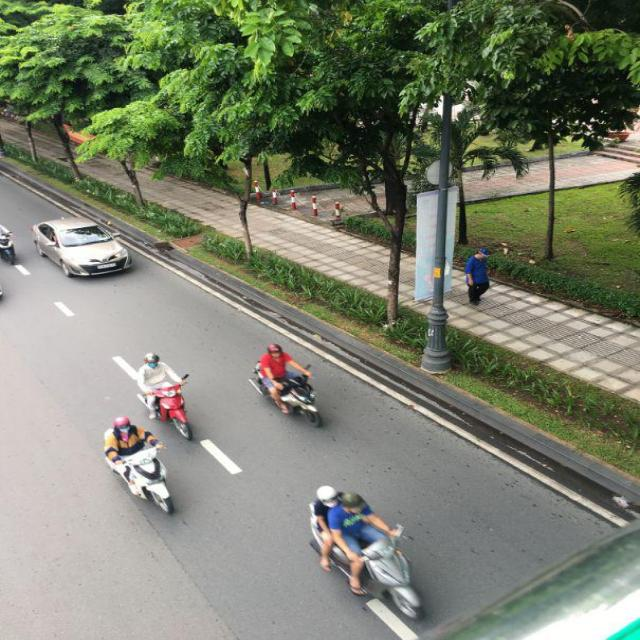car: (31, 220, 133, 278)
motorcycle: (317, 496, 421, 618), (250, 357, 322, 424), (106, 450, 176, 515), (140, 376, 192, 441), (0, 223, 18, 266)
